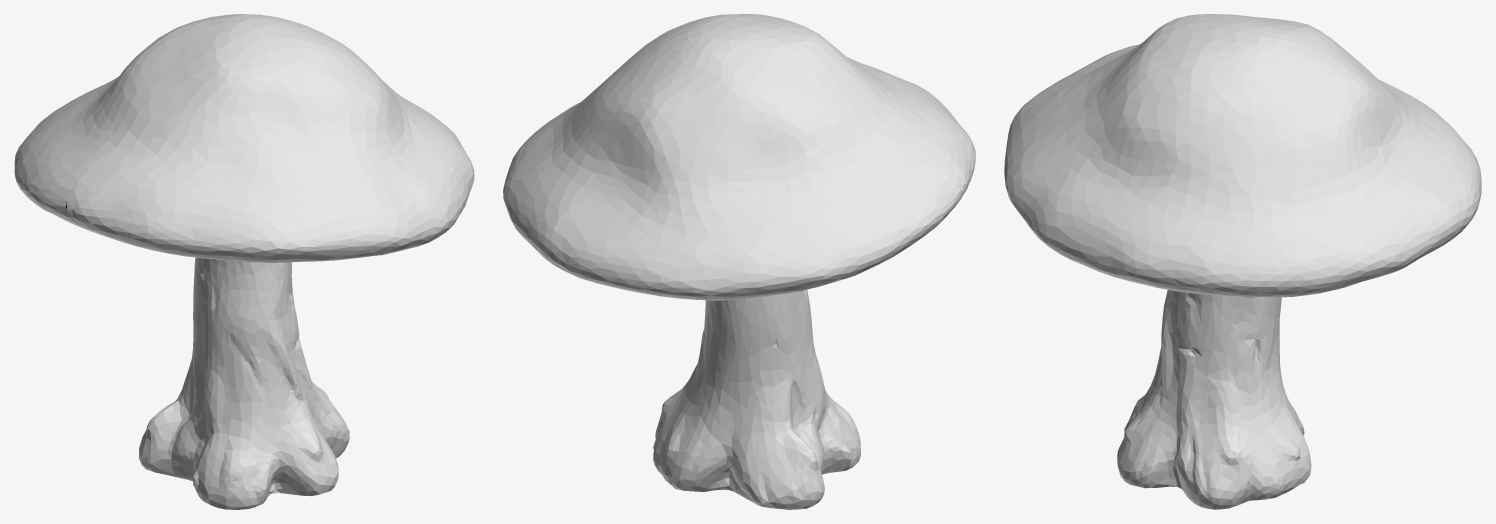
File: mushroom02.glb
The picture shows the model from 3 angles, left to right: view 1: azimuth 30°, elevation 25°; view 2: azimuth 150°, elevation 25°; view 3: azimuth 270°, elevation 25°; orthographic projection. The views are drawn at different scales.
Parts seen in each view (by area): view 1: Low; view 2: Low; view 3: Low.
Part boxes in pixels (x1=…): Low: x1=14, y1=14, x2=474, y2=509; Low: x1=503, y1=14, x2=975, y2=509; Low: x1=1004, y1=14, x2=1481, y2=509.
Size of the model in its own units: 1.94 by 1.99 by 1.94.
1 material, 1 textured.
